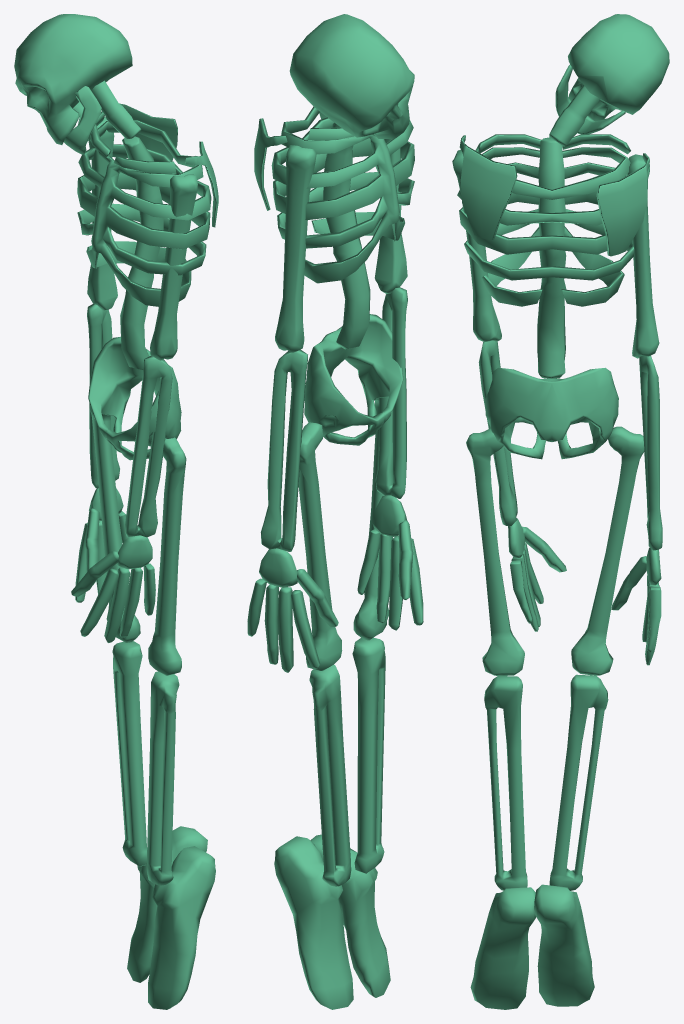
Rendered from Skeleton_03_Lod0.fbx.
The picture shows the model from 3 angles, left to right: view 1: azimuth 30°, elevation 25°; view 2: azimuth 150°, elevation 25°; view 3: azimuth 270°, elevation 25°; orthographic projection. The views are drawn at different scales.
Visible parts, largest first — view 1: Skeleton_03_Lod0; view 2: Skeleton_03_Lod0; view 3: Skeleton_03_Lod0.
Part boxes in pixels (left/top/right/bottom): Skeleton_03_Lod0: left=14, top=14, right=218, bottom=1009; Skeleton_03_Lod0: left=247, top=14, right=423, bottom=1009; Skeleton_03_Lod0: left=452, top=14, right=669, bottom=1009.
Bounding box in the file's own units: 26.65 × 158 × 31.88.
